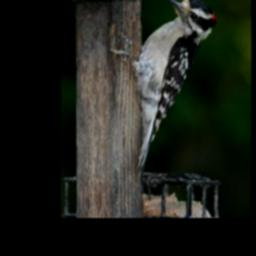Woodpecker: (110, 0, 217, 177)
